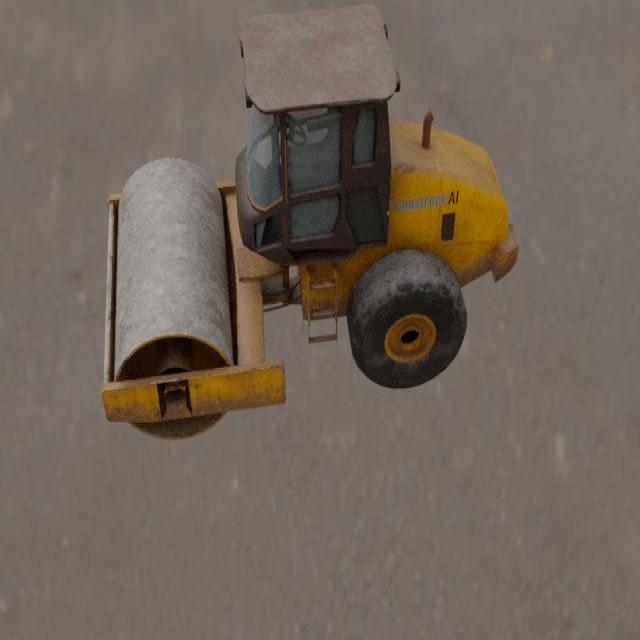Roller: (101, 4, 519, 440)
